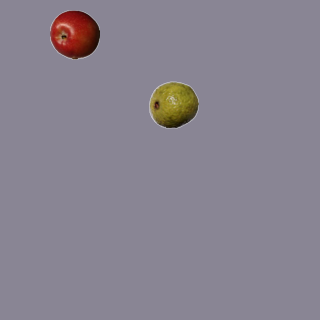Apple Braeburn: (49, 9, 99, 59)
Guava: (148, 79, 198, 129)
